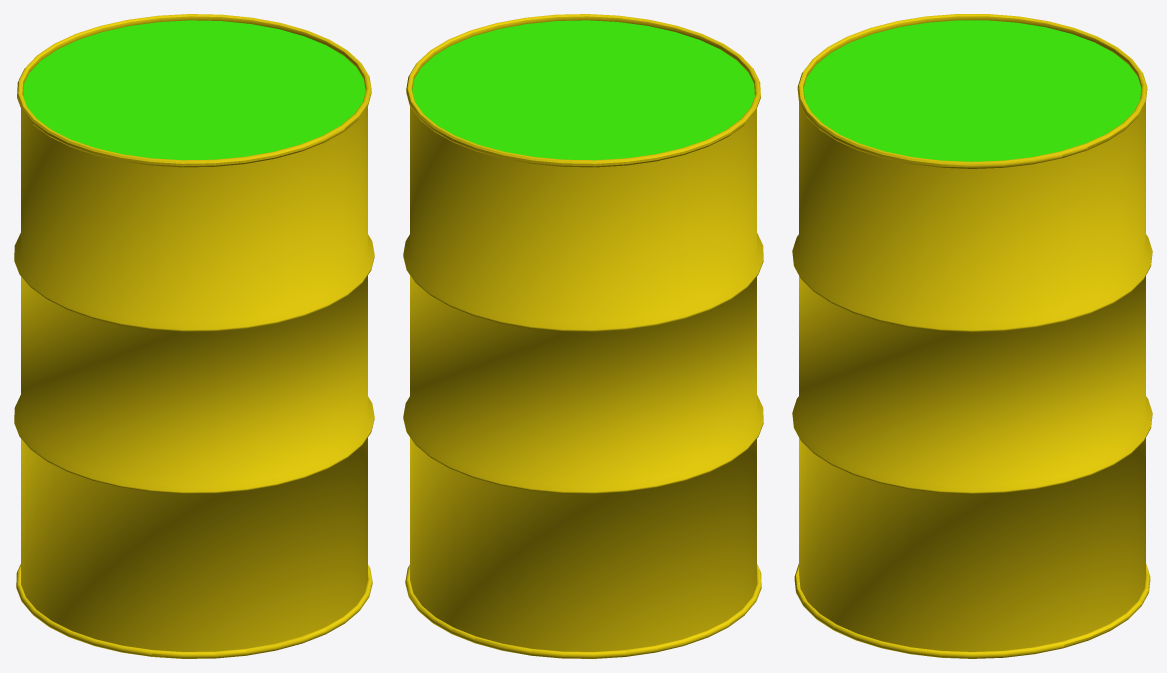
The model's file is Toxic Waste Drum.fbx.
3 renders of one model, left to right at view 1: azimuth 30°, elevation 25°; view 2: azimuth 150°, elevation 25°; view 3: azimuth 270°, elevation 25°, orthographic.
Parts seen in each view (by area): view 1: Cylinder001; view 2: Cylinder001; view 3: Cylinder001.
Boxes of the visible parts, x1,y1,x2,y2 form: Cylinder001: [14, 14, 374, 658]; Cylinder001: [403, 14, 763, 658]; Cylinder001: [792, 14, 1152, 658].
Bounding box in the file's own units: 149 × 228 × 150.
